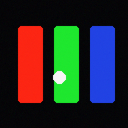2 circle: (53, 71, 65, 83)
